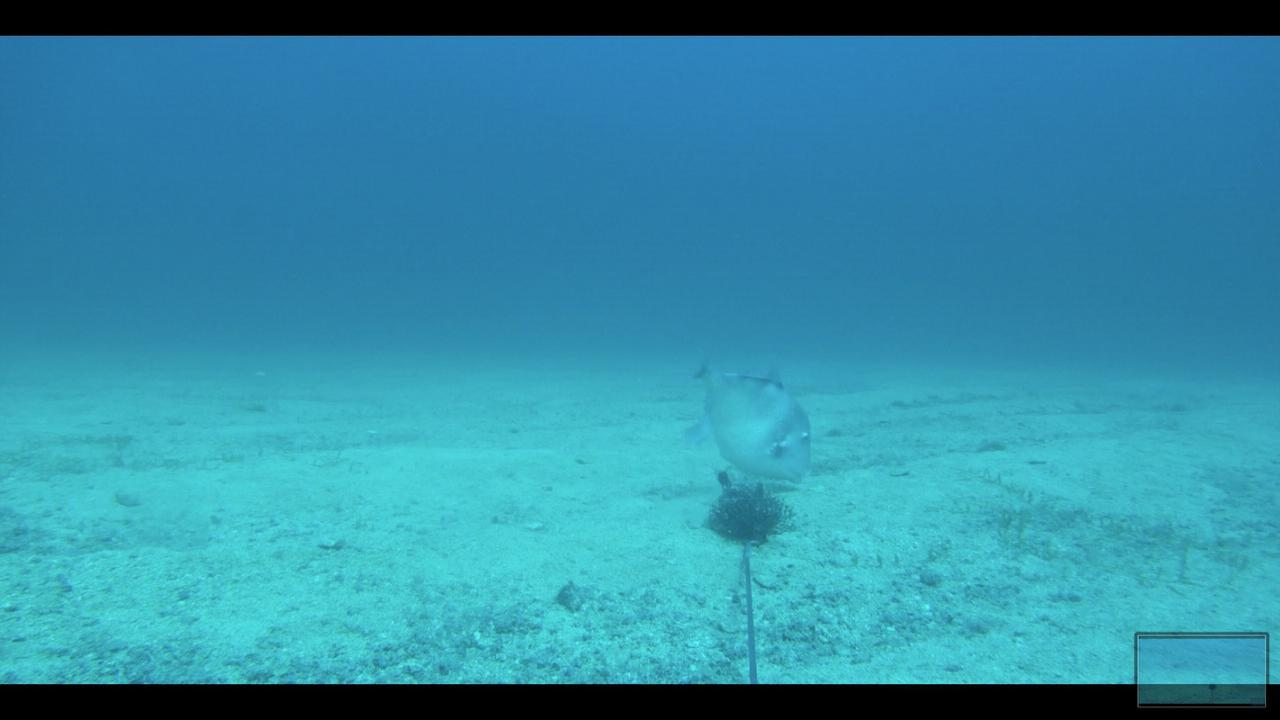balistes: (658, 330, 821, 492)
